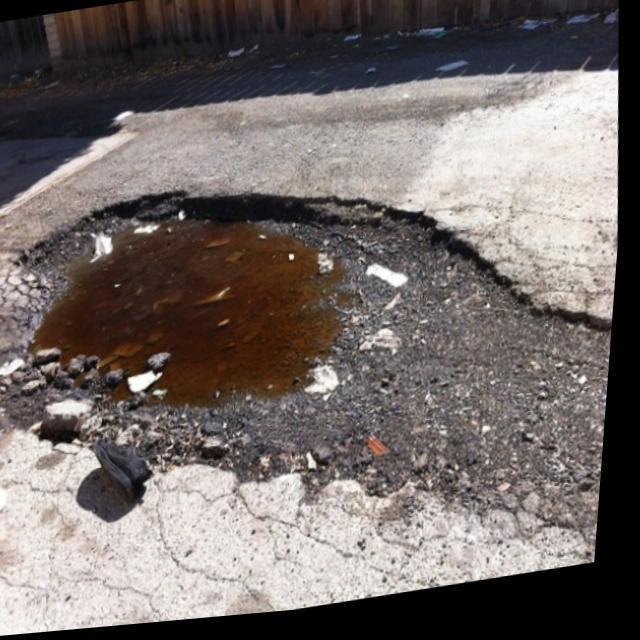Pothole: (0, 188, 611, 533)
